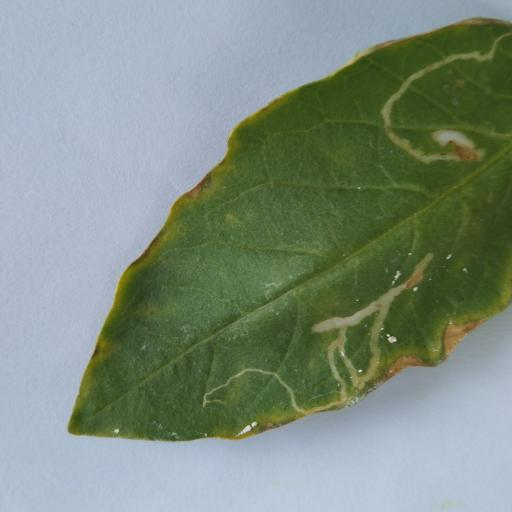disease_tomato: (65, 15, 512, 440)
